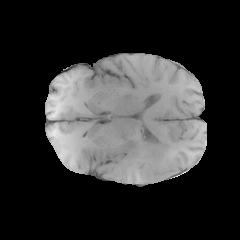glioma: (117, 135, 184, 182)
